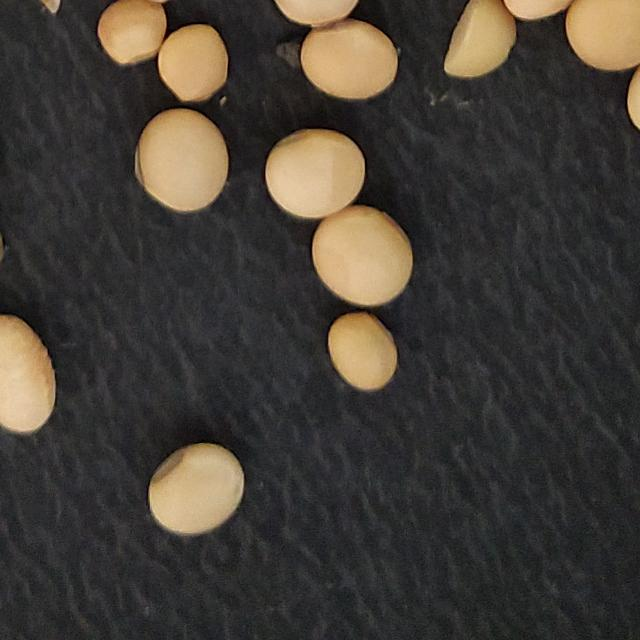B: (149, 443, 243, 535)
N: (134, 108, 228, 210), (264, 128, 365, 217), (300, 19, 398, 98), (328, 313, 396, 391)
